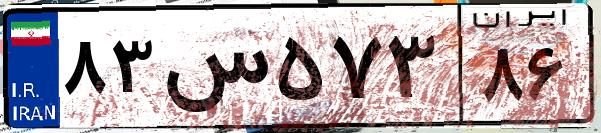3: (385, 28, 445, 110), (110, 28, 158, 98)
5: (270, 28, 330, 110)
6: (525, 38, 570, 115)
7: (330, 28, 385, 110)
8: (57, 26, 110, 100), (475, 38, 525, 113)
س: (158, 20, 270, 120)
